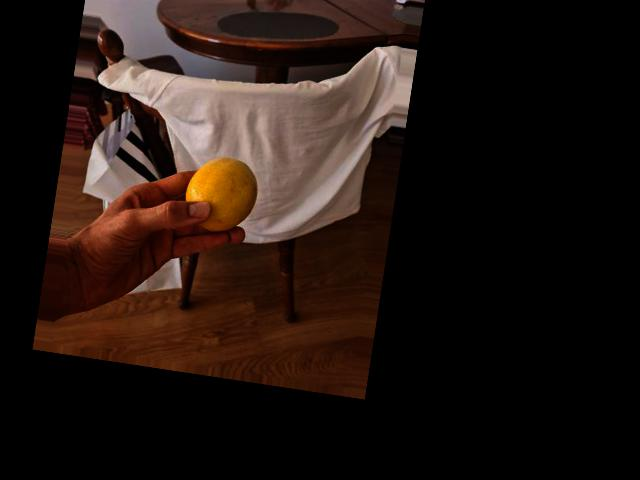lemon: (184, 154, 259, 235)
